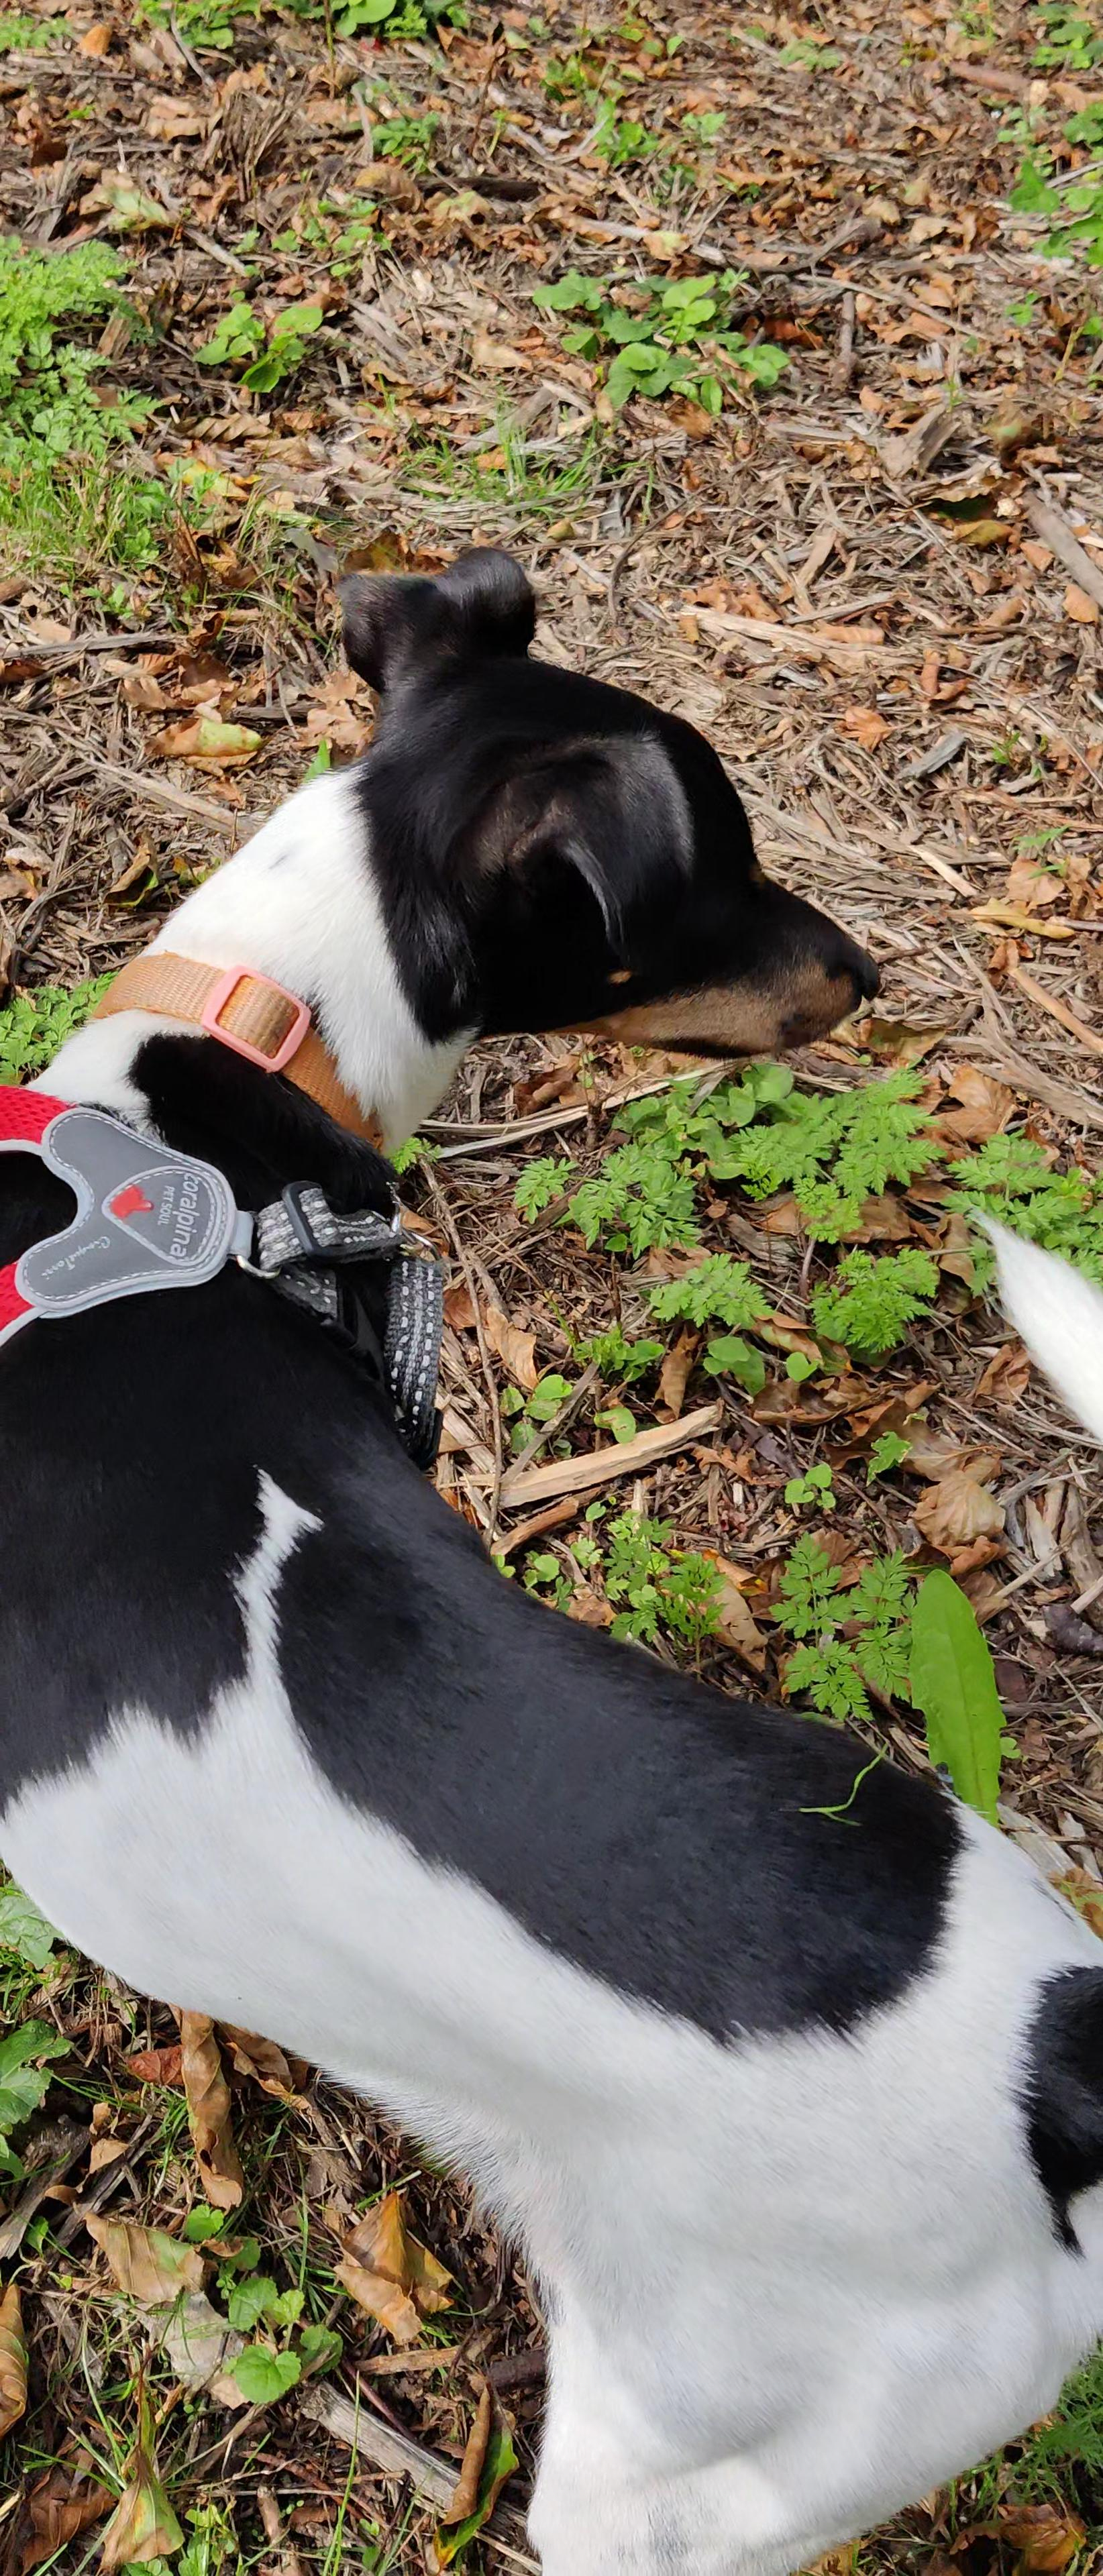Dog: (0, 522, 1103, 2576)
